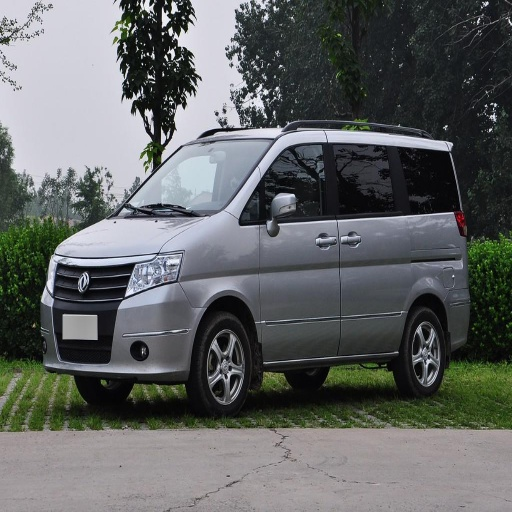back_left_door: (330, 139, 411, 346)
front_bumper: (38, 254, 205, 378)
front_glass: (115, 139, 272, 217)
front_left_door: (255, 134, 339, 354)
trunk: (388, 228, 460, 327)
